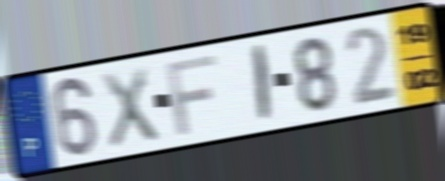2: (343, 24, 399, 110)
6: (49, 74, 99, 160)
8: (290, 35, 338, 115)
F: (163, 52, 219, 138)
I: (252, 41, 273, 127)
X: (98, 64, 162, 152)
